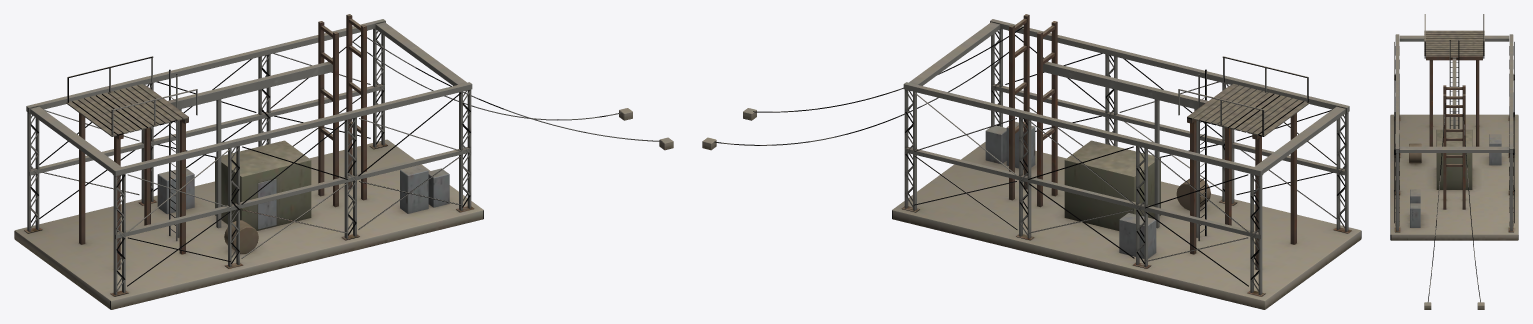
Rendered from test_rig.glb.
3 renders of one model, left to right at view 1: azimuth 30°, elevation 25°; view 2: azimuth 150°, elevation 25°; view 3: azimuth 270°, elevation 25°, orthographic. The views are drawn at different scales.
Parts seen in each view (by area): view 1: test_rig; view 2: test_rig; view 3: test_rig.
Boxes of the visible parts, x1=… form: test_rig: x1=14, y1=14, x2=673, y2=309; test_rig: x1=702, y1=14, x2=1361, y2=309; test_rig: x1=1390, y1=14, x2=1518, y2=309.
Size of the model in its own units: 25.2 by 7.48 by 7.2.
2 materials, 2 textured.
